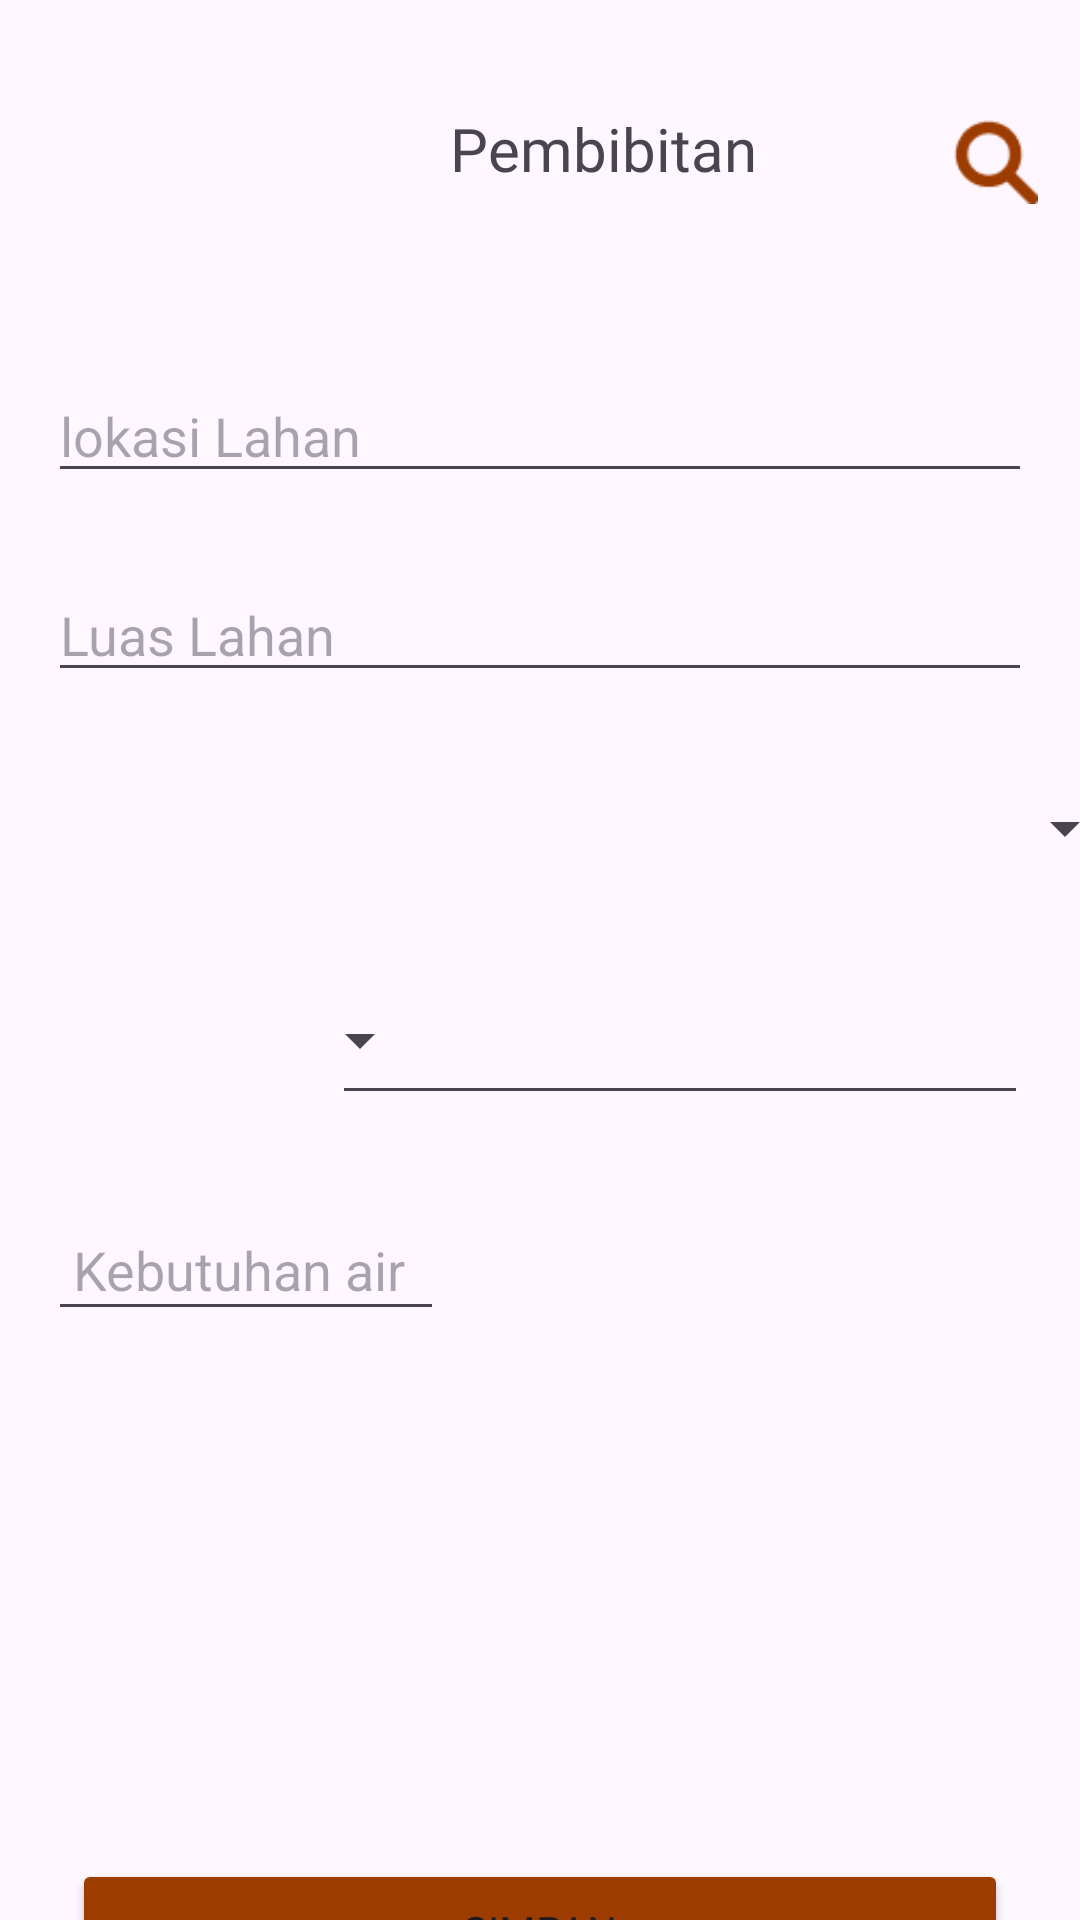

Icons on this 1080w x 1920h Android screen, each with the point to tap as (x=x, y=y):
pencarian: (x=996, y=162)
